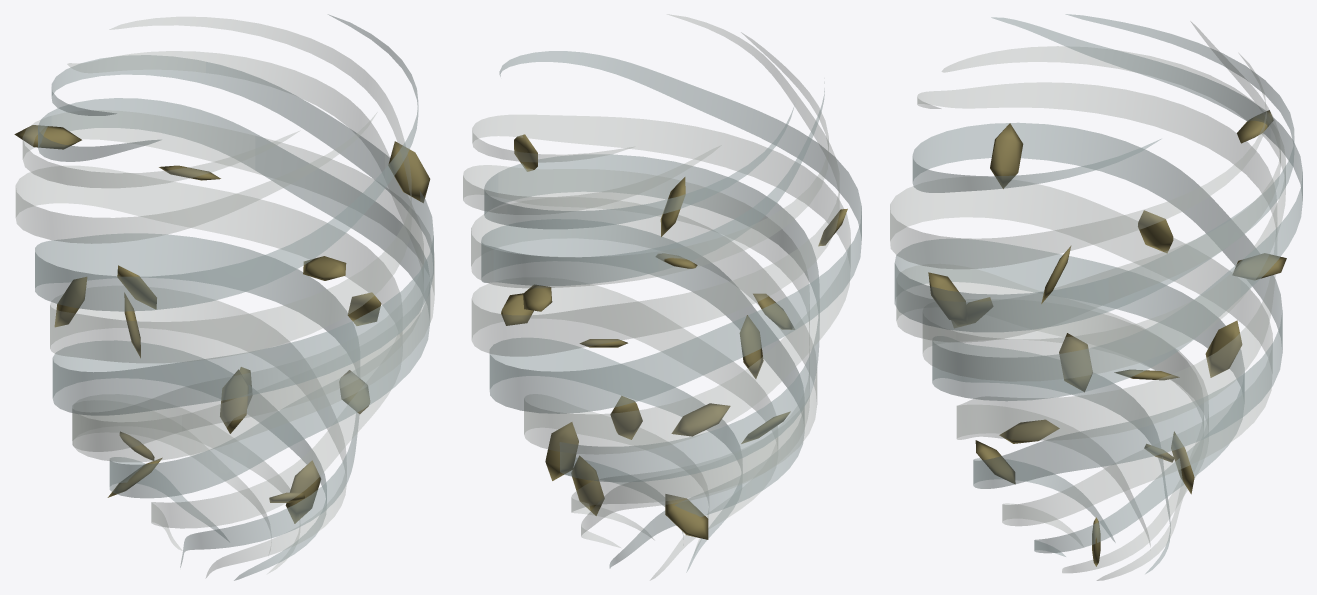
Rendered from AirVortex.glb.
The picture shows the model from 3 angles, left to right: view 1: azimuth 30°, elevation 25°; view 2: azimuth 150°, elevation 25°; view 3: azimuth 270°, elevation 25°; orthographic projection. The views are drawn at different scales.
Visible parts, largest first — view 1: VortexWind_5, VortexWind_6, VortexWind_1, VortexWind_2, VortexWind_3, VortexWind_4, VortexWind_0, OrbitLeaf_Cluster; view 2: VortexWind_3, VortexWind_4, VortexWind_6, VortexWind_5, VortexWind_2, VortexWind_1, VortexWind_0, OrbitLeaf_Cluster; view 3: VortexWind_5, VortexWind_4, VortexWind_3, VortexWind_6, VortexWind_2, VortexWind_1, VortexWind_0, OrbitLeaf_Cluster.
Boxes of the visible parts, x1=… form: VortexWind_5: x1=51, y1=55, x2=433, y2=580; VortexWind_6: x1=22, y1=110, x2=434, y2=573; VortexWind_1: x1=38, y1=98, x2=430, y2=540; VortexWind_2: x1=15, y1=112, x2=402, y2=550; VortexWind_3: x1=35, y1=14, x2=418, y2=567; VortexWind_4: x1=50, y1=17, x2=411, y2=577; VortexWind_0: x1=67, y1=51, x2=423, y2=552; OrbitLeaf_Cluster: x1=14, y1=125, x2=430, y2=523; VortexWind_3: x1=489, y1=51, x2=861, y2=572; VortexWind_4: x1=472, y1=115, x2=850, y2=554; VortexWind_6: x1=471, y1=32, x2=828, y2=539; VortexWind_5: x1=484, y1=106, x2=819, y2=536; VortexWind_2: x1=471, y1=14, x2=839, y2=580; VortexWind_1: x1=481, y1=82, x2=824, y2=568; VortexWind_0: x1=463, y1=145, x2=809, y2=547; OrbitLeaf_Cluster: x1=501, y1=134, x2=847, y2=539; VortexWind_5: x1=894, y1=14, x2=1294, y2=556; VortexWind_4: x1=890, y1=54, x2=1272, y2=545; VortexWind_3: x1=912, y1=122, x2=1282, y2=542; VortexWind_6: x1=922, y1=46, x2=1285, y2=572; VortexWind_2: x1=917, y1=82, x2=1276, y2=546; VortexWind_1: x1=932, y1=17, x2=1302, y2=573; VortexWind_0: x1=896, y1=21, x2=1280, y2=580; OrbitLeaf_Cluster: x1=928, y1=110, x2=1286, y2=566.
Size of the model in its own units: 1.44 by 1.9 by 1.46.
